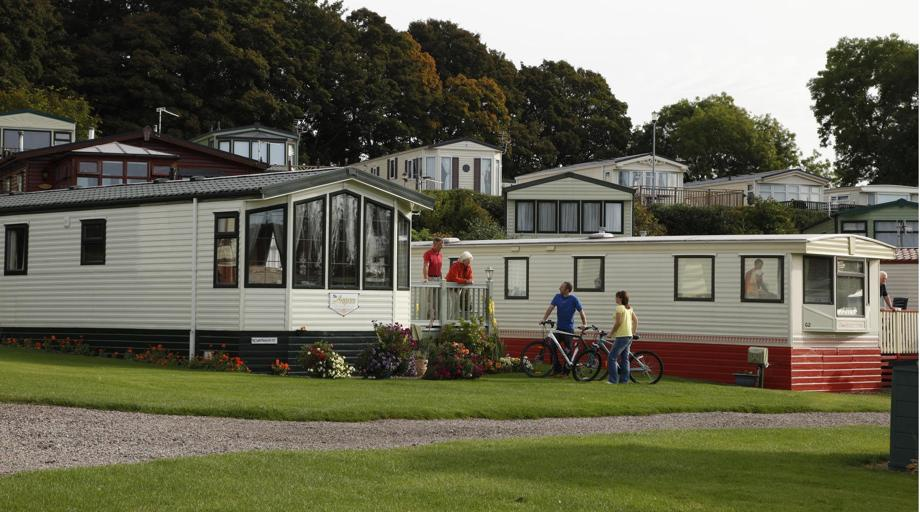non-vehicle: (571, 327, 665, 385), (521, 319, 598, 381)
